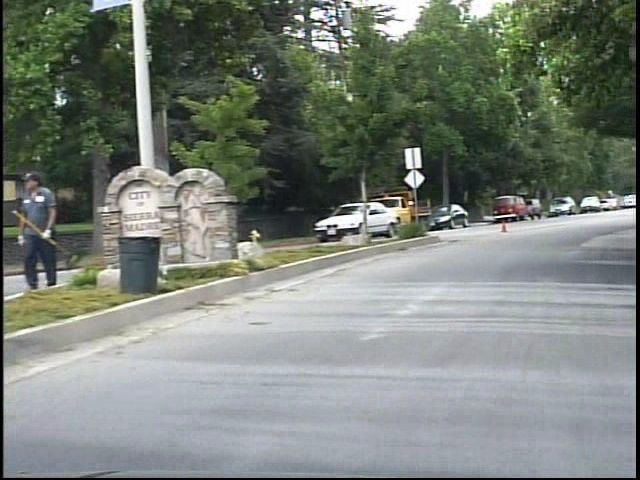person: (24, 166, 75, 295)
